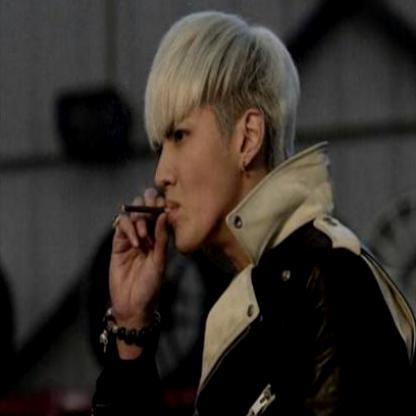cigarette: (119, 201, 166, 218)
person: (145, 19, 415, 415)
